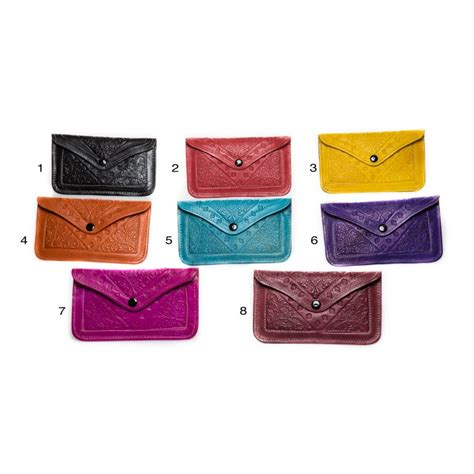cuero: (26, 131, 444, 346)
